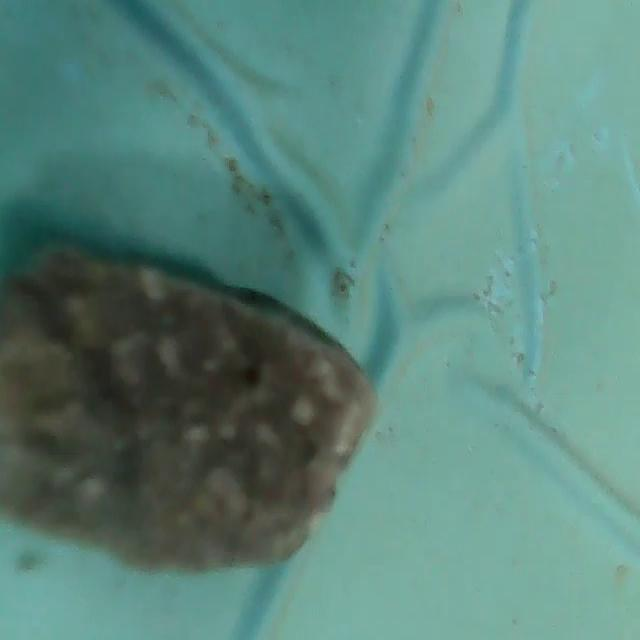rock: (0, 234, 388, 578)
